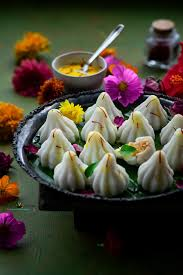modak: (78, 103, 134, 149), (36, 128, 91, 169), (91, 152, 140, 194), (39, 109, 83, 143), (58, 151, 94, 192), (143, 146, 174, 193), (83, 132, 123, 162)
